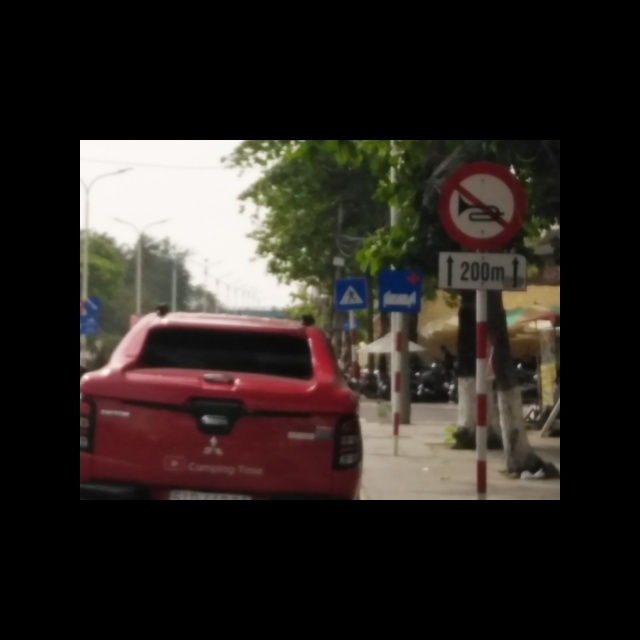Bệnh viện: (379, 269, 420, 315)
Cấm bấm còi: (439, 163, 526, 251)
Đường dành cho người đi bộ: (331, 277, 369, 310)
